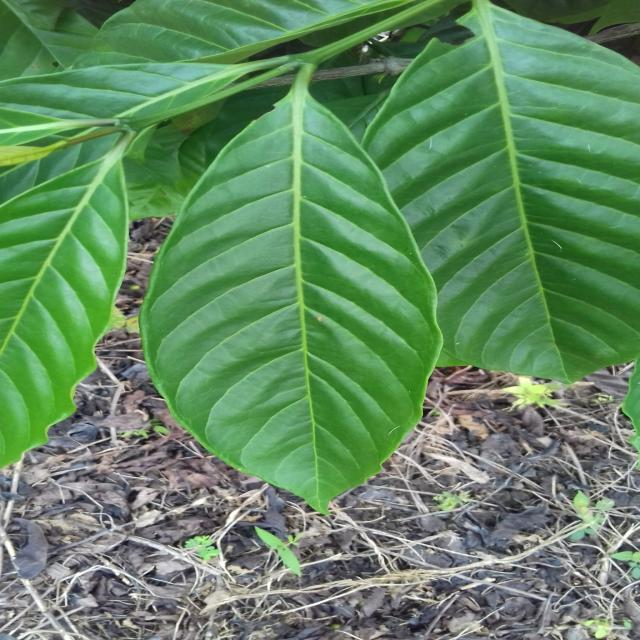Sanas: (138, 98, 442, 515)
